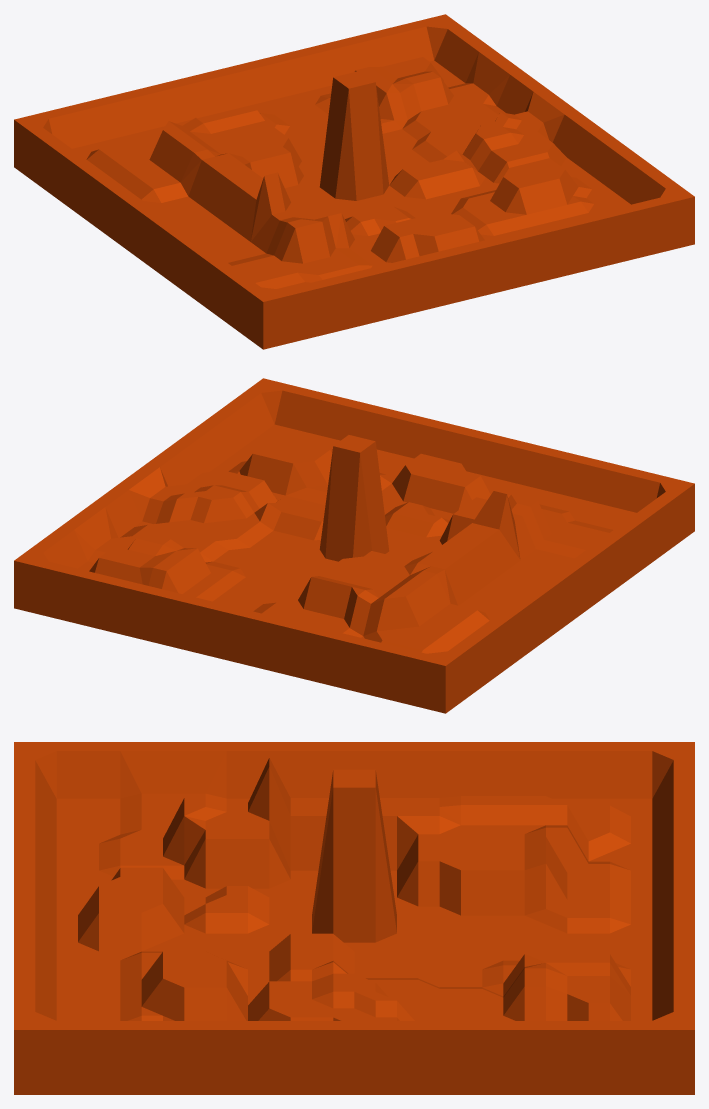
File: mountains.obj
The picture shows the model from 3 angles, top to bottom: view 1: azimuth 30°, elevation 25°; view 2: azimuth 150°, elevation 25°; view 3: azimuth 270°, elevation 25°; orthographic projection. The views are drawn at different scales.
Visible parts, largest first — view 1: Cube; view 2: Cube; view 3: Cube.
Part boxes in pixels (x1,y1,x2,y2): Cube: [14, 14, 694, 349]; Cube: [14, 378, 694, 713]; Cube: [14, 742, 694, 1094].
Size of the model in its own units: 5000 by 1395 by 5000.
